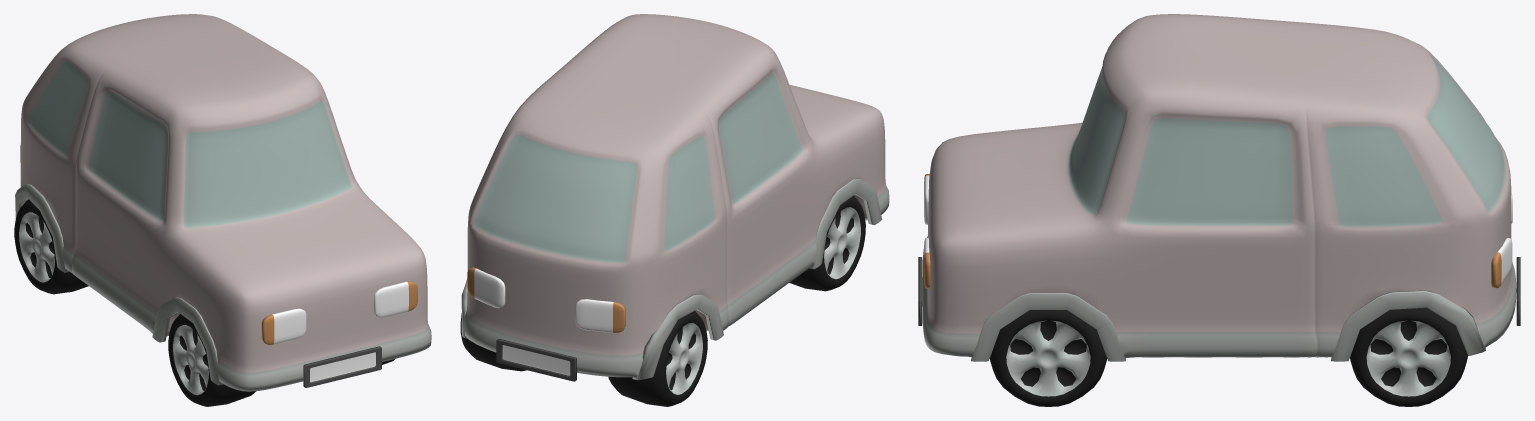
File: car2fixed.fbx
3 renders of one model, left to right at view 1: azimuth 30°, elevation 25°; view 2: azimuth 150°, elevation 25°; view 3: azimuth 270°, elevation 25°, orthographic. The views are drawn at different scales.
Parts seen in each view (by area): view 1: Cube, Cylinder.008, Cylinder.002, Cube.005, Cube.003; view 2: Cube, Cylinder.008, Cylinder.002, Cube.005, Cube.003; view 3: Cube, Cylinder.008, Cylinder.002, Cube.005, Cube.003.
Part boxes in pixels (box(x1,y1,x2,y2)): Cube: box(20, 14, 431, 391); Cylinder.008: box(14, 199, 394, 406); Cylinder.002: box(15, 184, 223, 385); Cube.005: box(20, 145, 417, 344); Cube.003: box(303, 346, 381, 387); Cube: box(464, 14, 889, 377); Cylinder.008: box(460, 195, 865, 406); Cylinder.002: box(461, 178, 882, 380); Cube.005: box(467, 267, 625, 332); Cube.003: box(496, 339, 576, 381); Cube: box(922, 14, 1516, 357); Cylinder.008: box(989, 307, 1467, 406); Cylinder.002: box(971, 290, 1485, 361); Cube.005: box(924, 174, 1512, 288); Cube.003: box(918, 257, 1520, 325).
Size of the model in its own units: 379 by 462 by 816.
